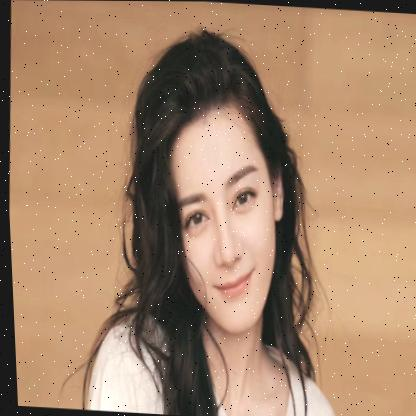person: (124, 37, 314, 346)
